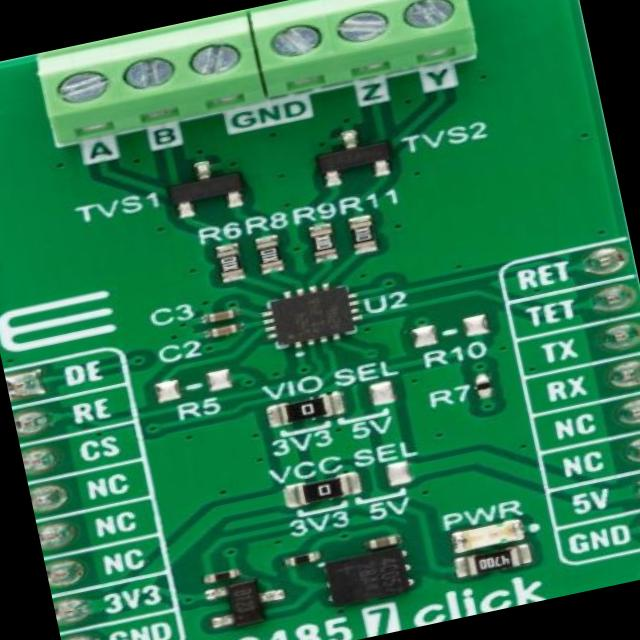IC: (256, 277, 364, 352), (318, 544, 418, 612)
LED: (456, 516, 525, 554)
capacitor: (207, 306, 235, 323), (210, 322, 238, 338), (368, 534, 399, 548)
connector: (34, 8, 270, 144), (248, 0, 478, 98)
resistor: (270, 392, 343, 431), (287, 472, 359, 511), (462, 542, 530, 578), (250, 234, 290, 276), (211, 244, 247, 286), (306, 227, 339, 264), (348, 216, 377, 254), (204, 565, 244, 586), (286, 548, 322, 569), (468, 376, 497, 402)
transistor: (312, 124, 400, 188), (168, 155, 249, 219), (206, 577, 281, 632)
